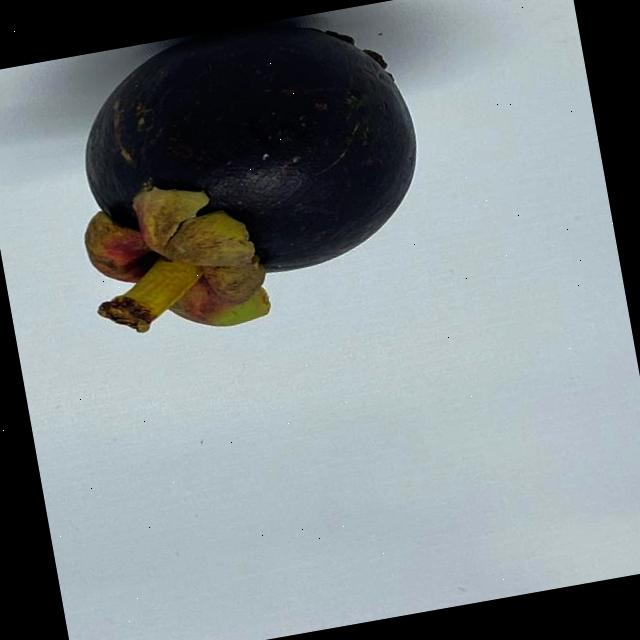mangosteen: (38, 0, 481, 384)
